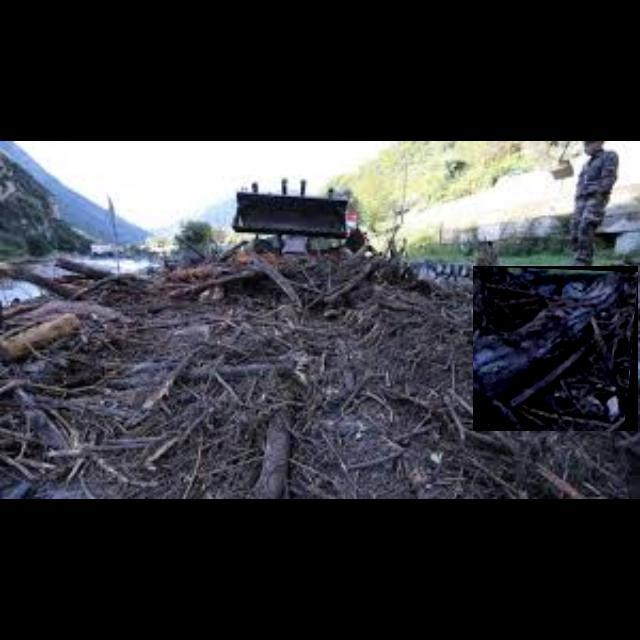fallen_tree: (473, 266, 639, 432)
